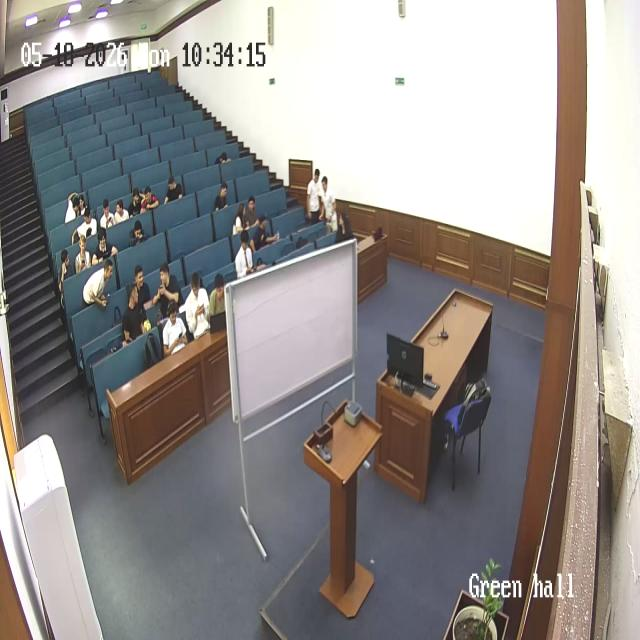person: (183, 273, 210, 339), (82, 258, 114, 308), (121, 284, 147, 344), (161, 299, 187, 357), (154, 261, 182, 312), (132, 264, 156, 316), (235, 230, 256, 278), (306, 168, 324, 222), (318, 174, 336, 228), (92, 228, 118, 264), (254, 212, 278, 250), (60, 248, 76, 303), (73, 208, 97, 244), (208, 273, 226, 321), (74, 234, 93, 274), (334, 209, 354, 244), (240, 195, 258, 229), (163, 175, 183, 205), (213, 182, 231, 212), (128, 188, 146, 218), (232, 202, 248, 235), (99, 198, 115, 230), (211, 150, 234, 172), (64, 193, 80, 223), (129, 219, 147, 245), (114, 197, 130, 225), (142, 186, 158, 212), (76, 194, 90, 218)
